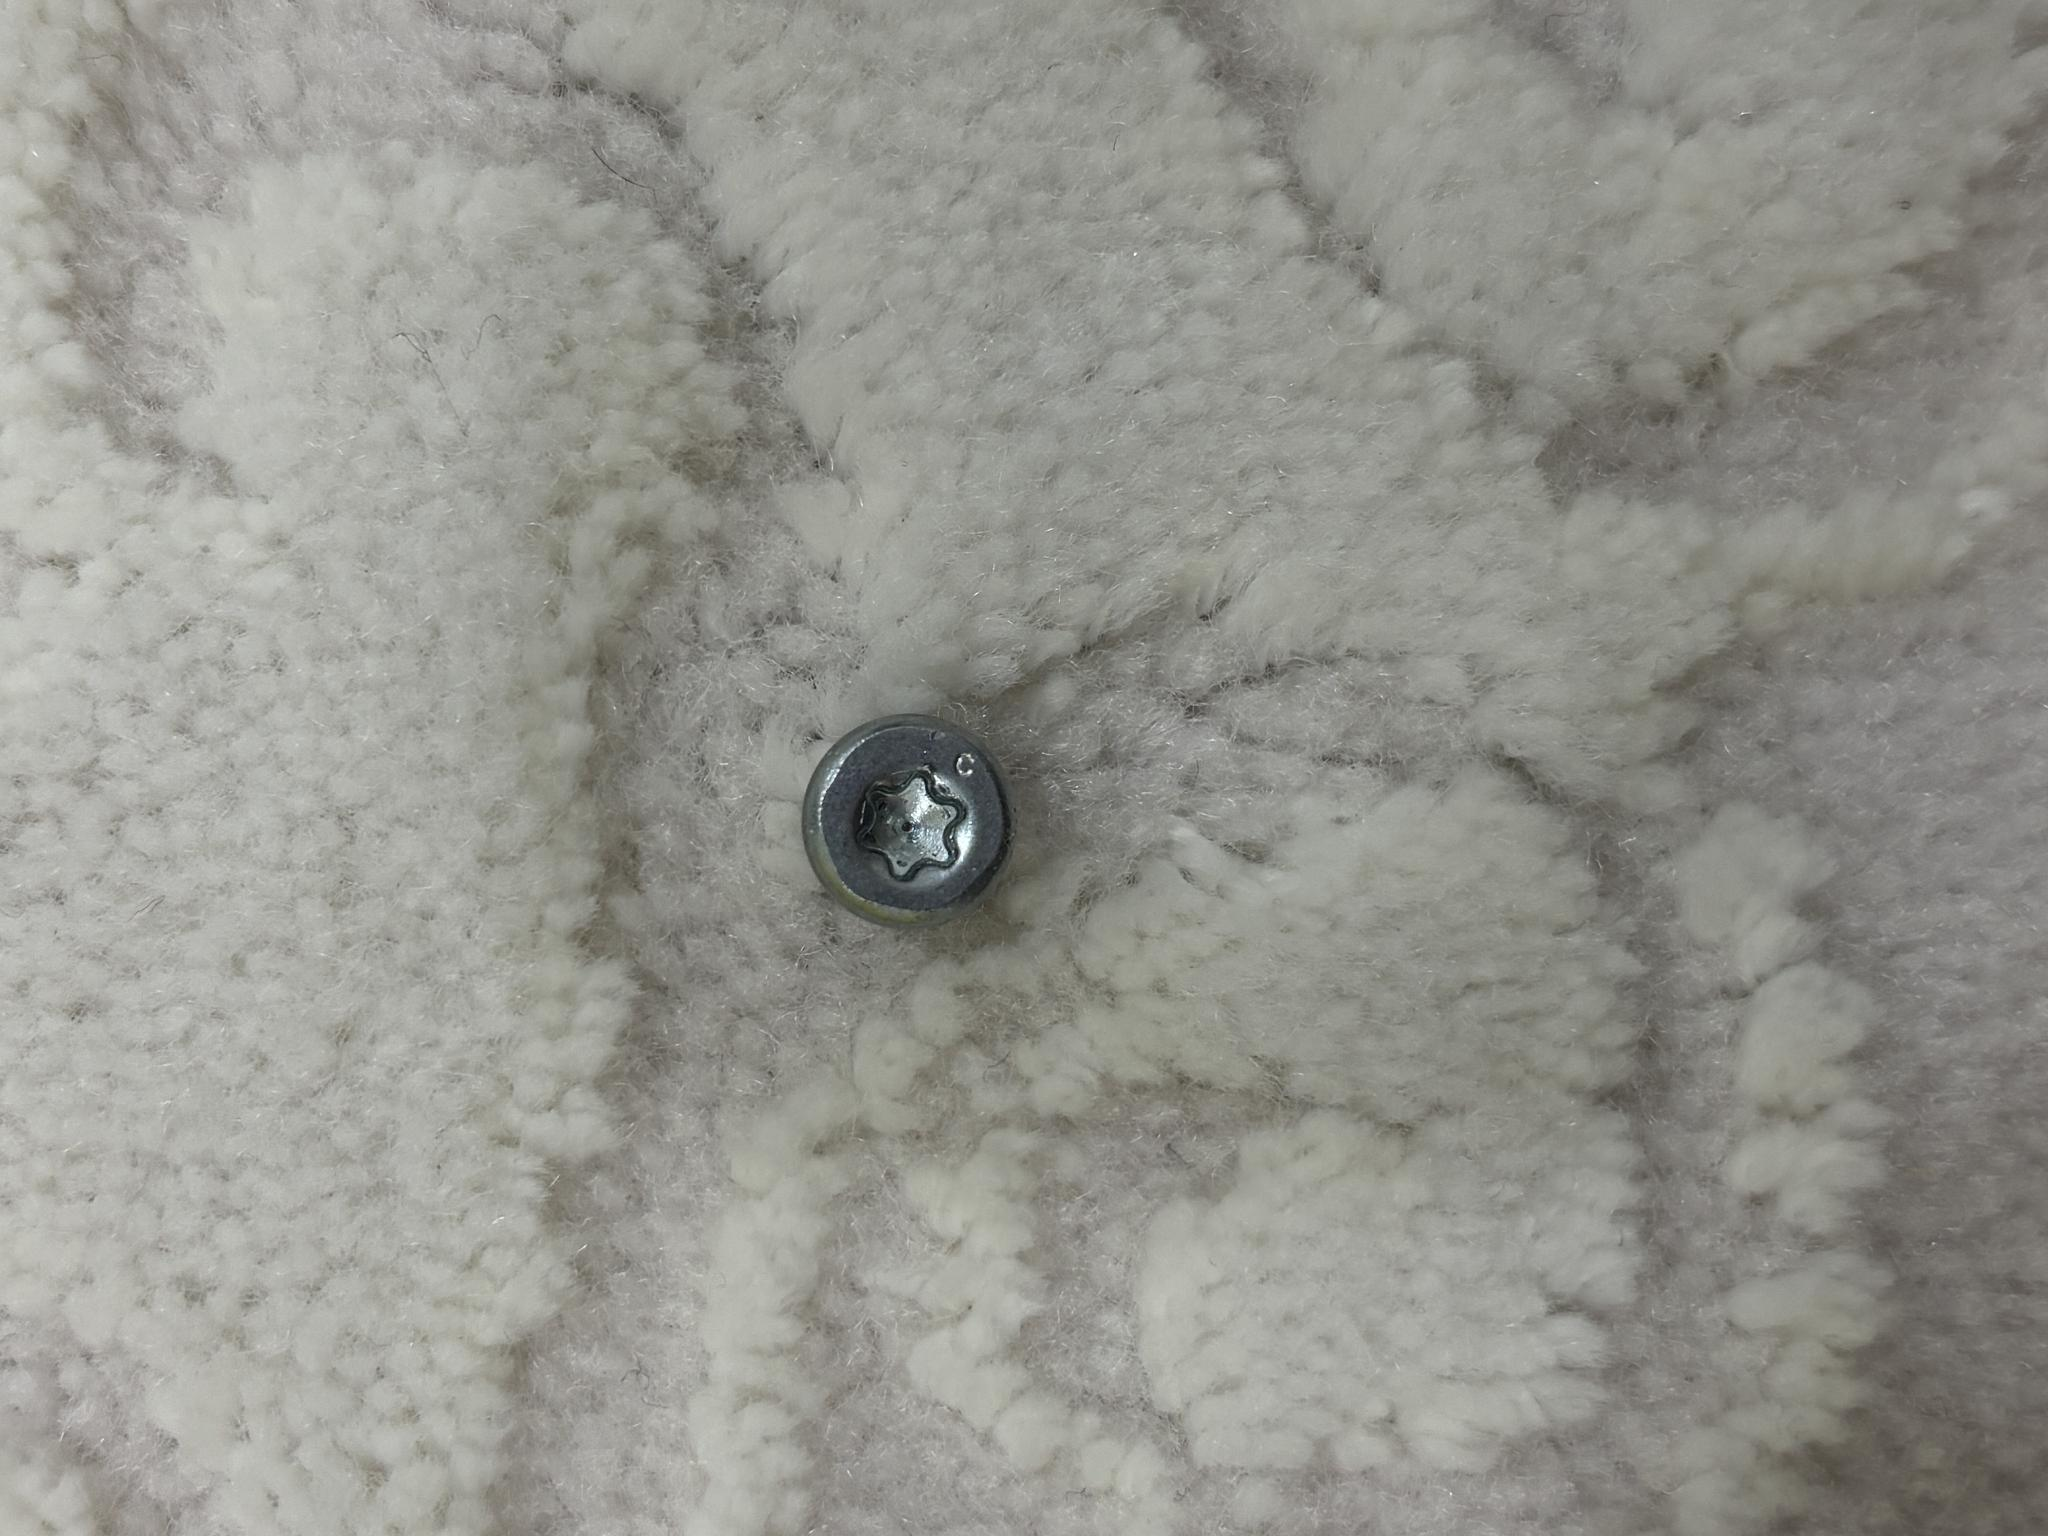T: (610, 805, 821, 1013)
